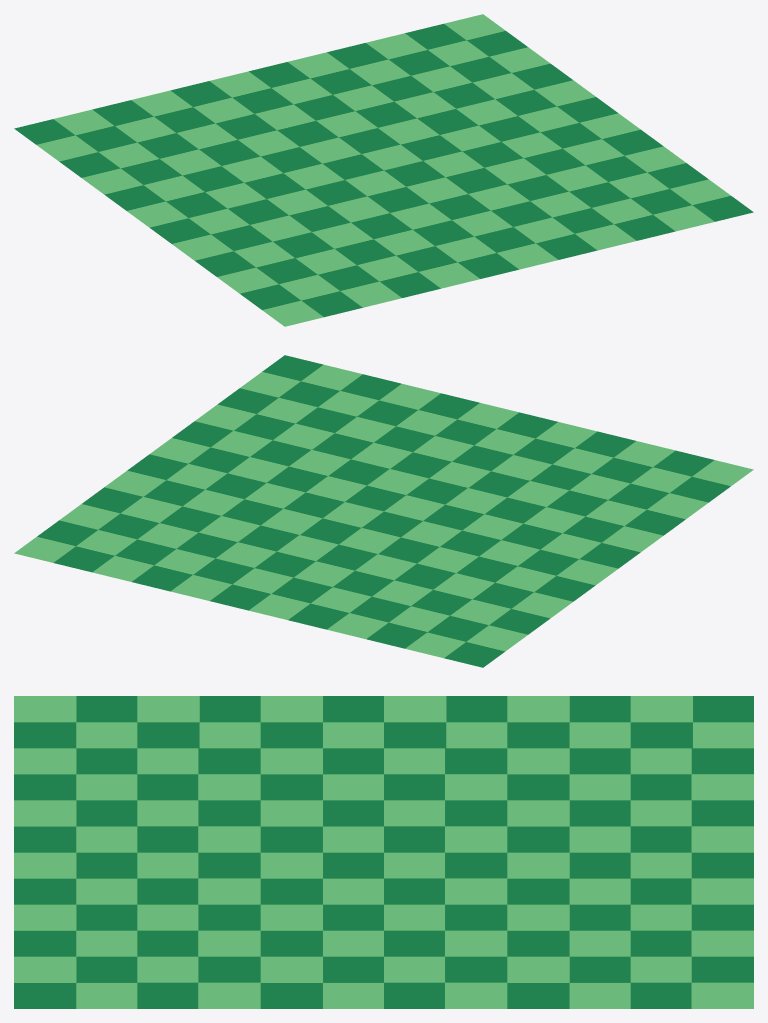
File: gezi.FBX
3 views of the same model, one above another, from view 1: azimuth 30°, elevation 25°; view 2: azimuth 150°, elevation 25°; view 3: azimuth 270°, elevation 25° (orthographic). The views are drawn at different scales.
Visible parts, largest first — view 1: gezi; view 2: gezi; view 3: gezi.
Boxes of the visible parts, x1,y1,x2,y2 form: gezi: [14, 14, 753, 326]; gezi: [14, 355, 753, 667]; gezi: [14, 696, 753, 1008].
Bounding box in the file's own units: 80 × 4.9e-15 × 80.
